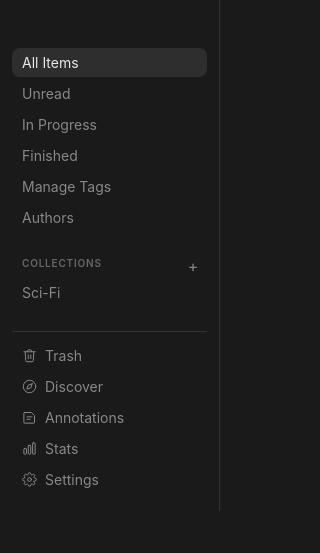
Sidebar — collections CRUD › surfaces an error when delete fails
Right-click the text "Sci-Fi" at (41, 292), box [22,284,60,301]
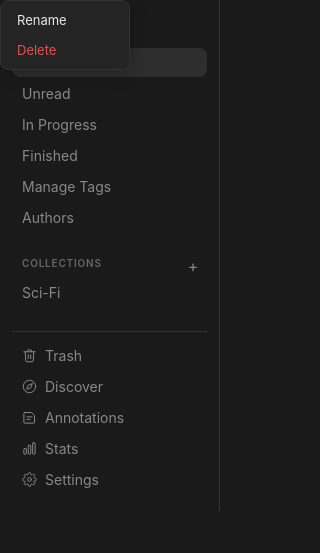
Click the button "Delete". click: (65, 50)
box: [5,35,125,65]
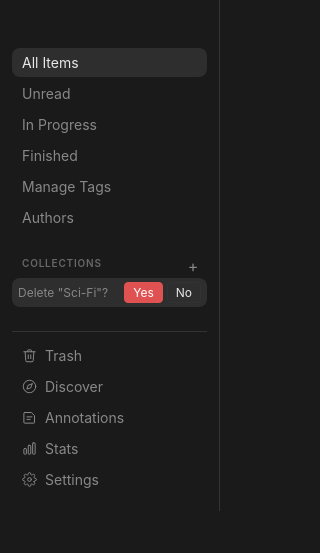
Click the button "Yes". click: (144, 292)
box: [124,282,163,303]
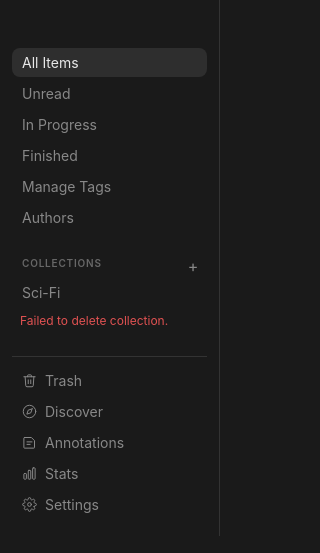
Now the text "Failed to delete collection." is shown, box [20,313,168,328]
